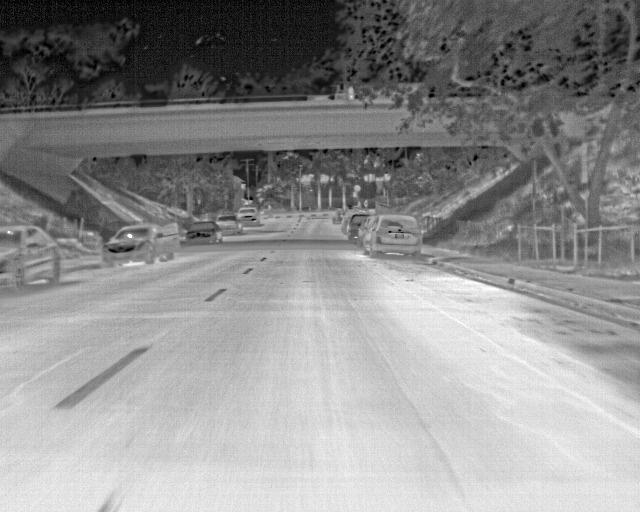car: (2, 224, 61, 295), (105, 225, 174, 267), (363, 214, 422, 260), (188, 220, 223, 247), (344, 210, 367, 246), (214, 216, 241, 238), (238, 204, 260, 225)
